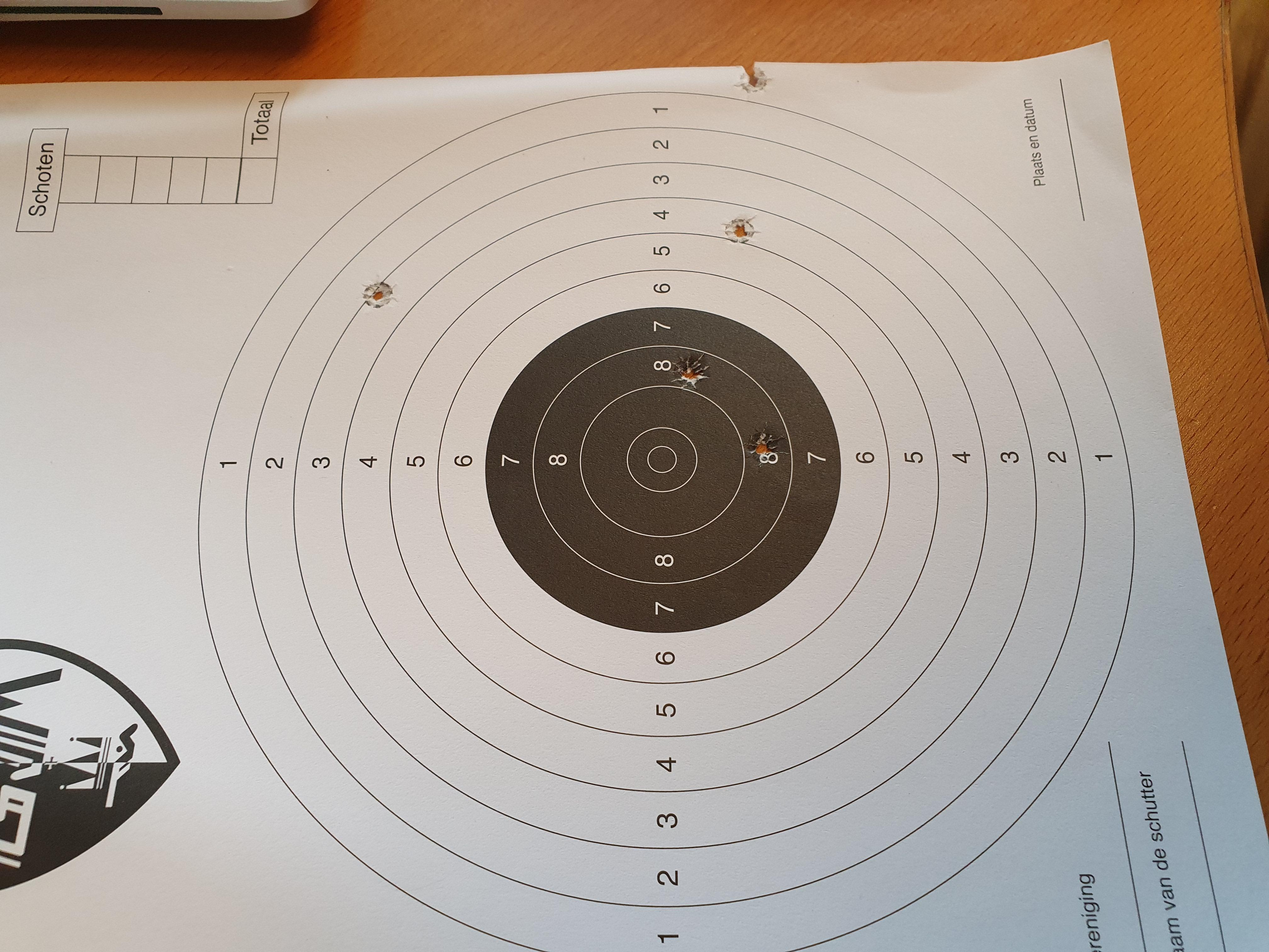hole: (742, 500, 800, 539), (644, 551, 703, 589), (935, 538, 989, 572), (847, 270, 907, 297), (1131, 549, 1182, 580)
